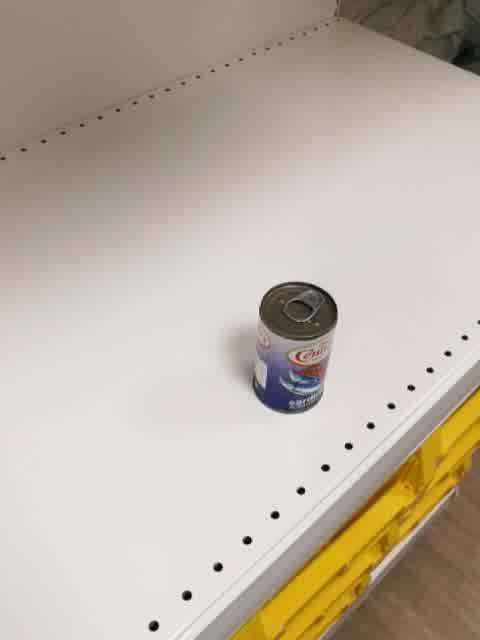sardine: (252, 281, 338, 415)
